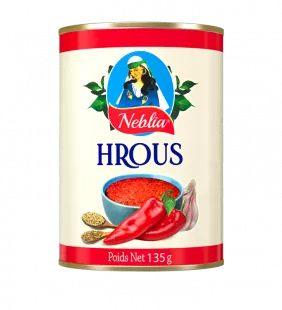NEBLIA: (51, 12, 229, 277)
